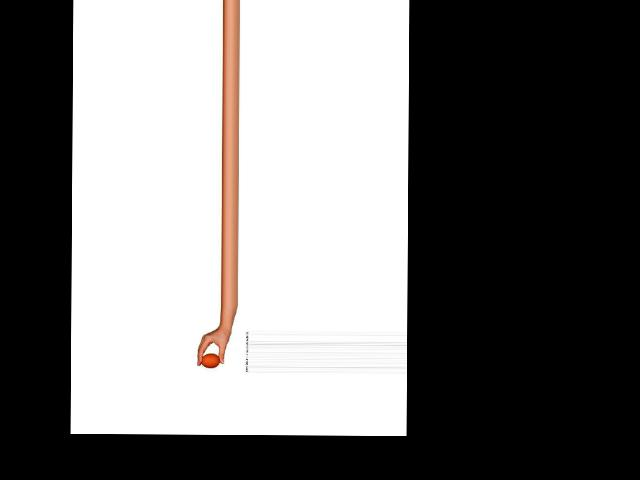egg: (200, 354, 220, 368)
